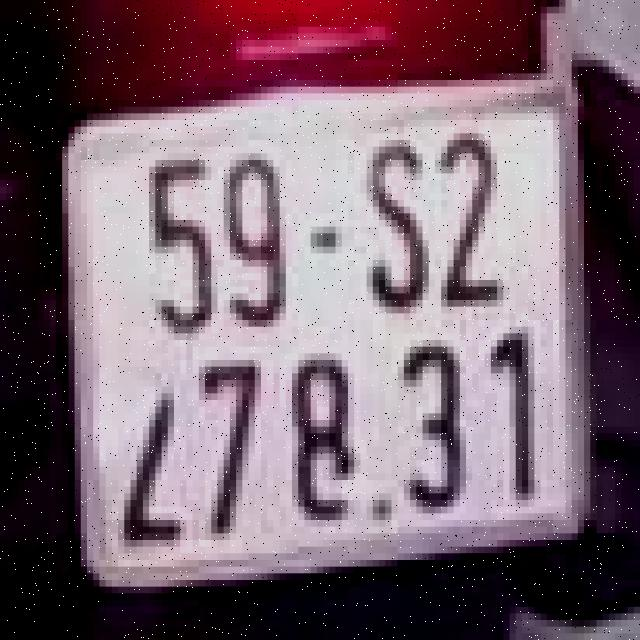1: (494, 334, 544, 514)
2: (112, 360, 186, 560), (435, 130, 516, 310)
3: (398, 320, 478, 520)
5: (143, 154, 217, 334)
7: (199, 340, 273, 560)
8: (286, 330, 366, 523)
9: (230, 154, 298, 334)
S: (344, 123, 426, 330)
